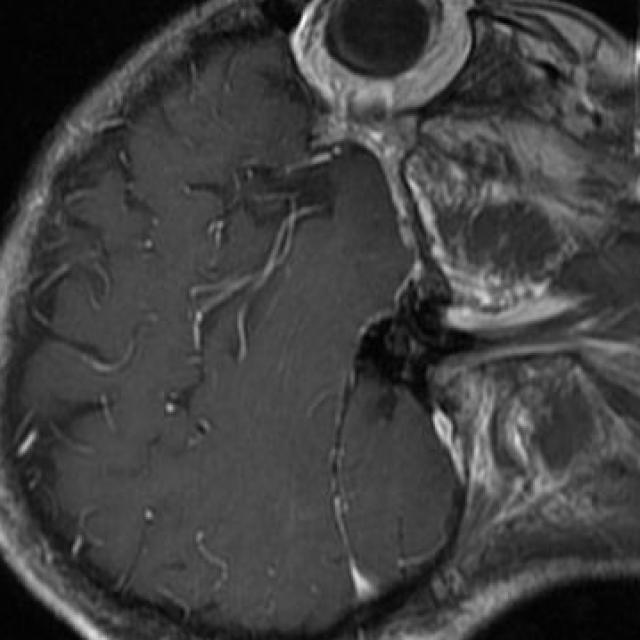glioma: (219, 160, 330, 228)
